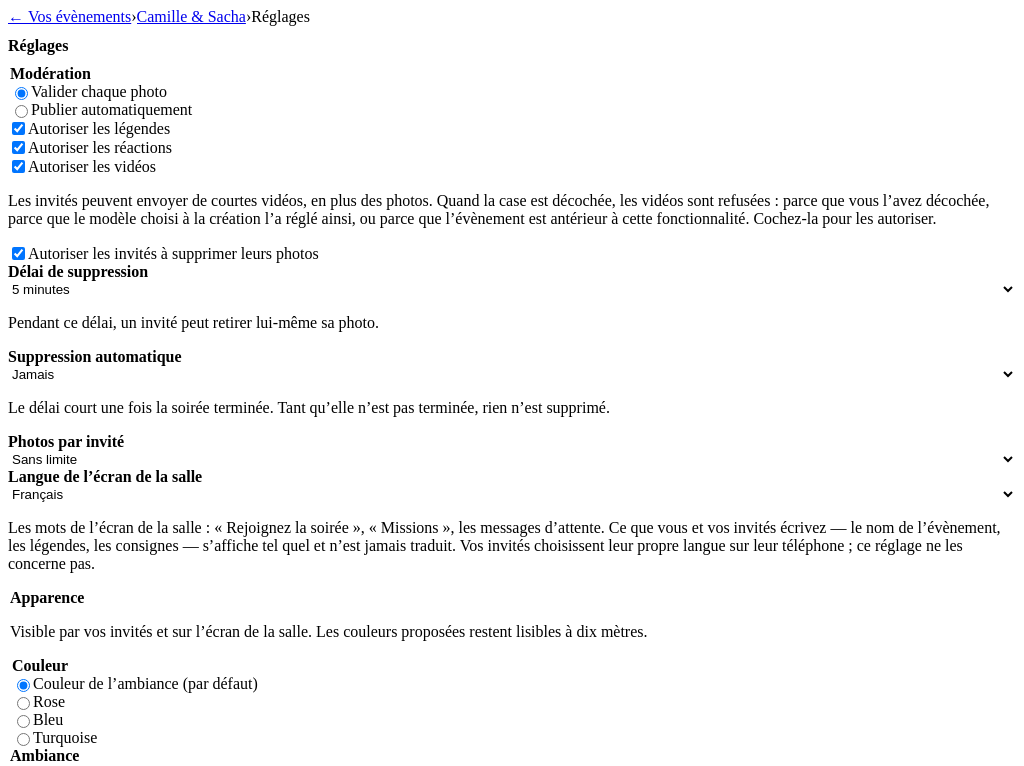
it: EventSettingsPage › warns about automatic publishing only once that option is chosen
Click the radio button labelled "Publier automatiquement" at (22, 112), box [15, 105, 28, 118]
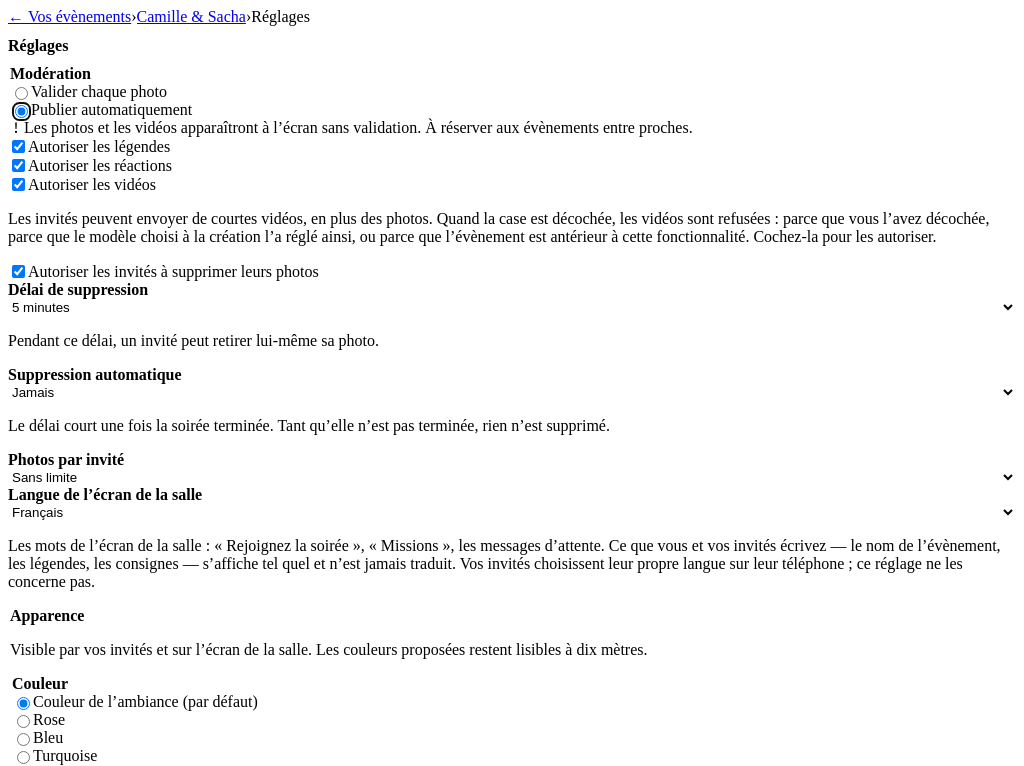
Result: the text "Les photos et les vidéos apparaîtront à l’écran sans validation. À réserver aux évènements entre proches." is shown at [24, 119, 693, 136]
